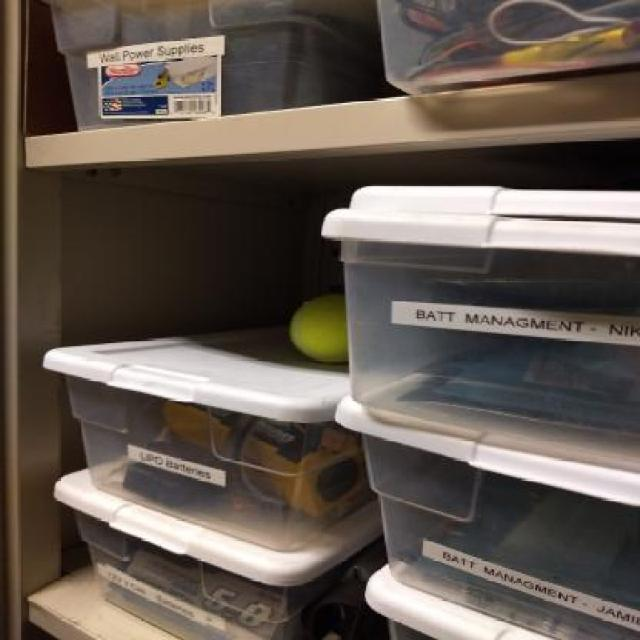tennis-ball: (288, 291, 348, 369)
